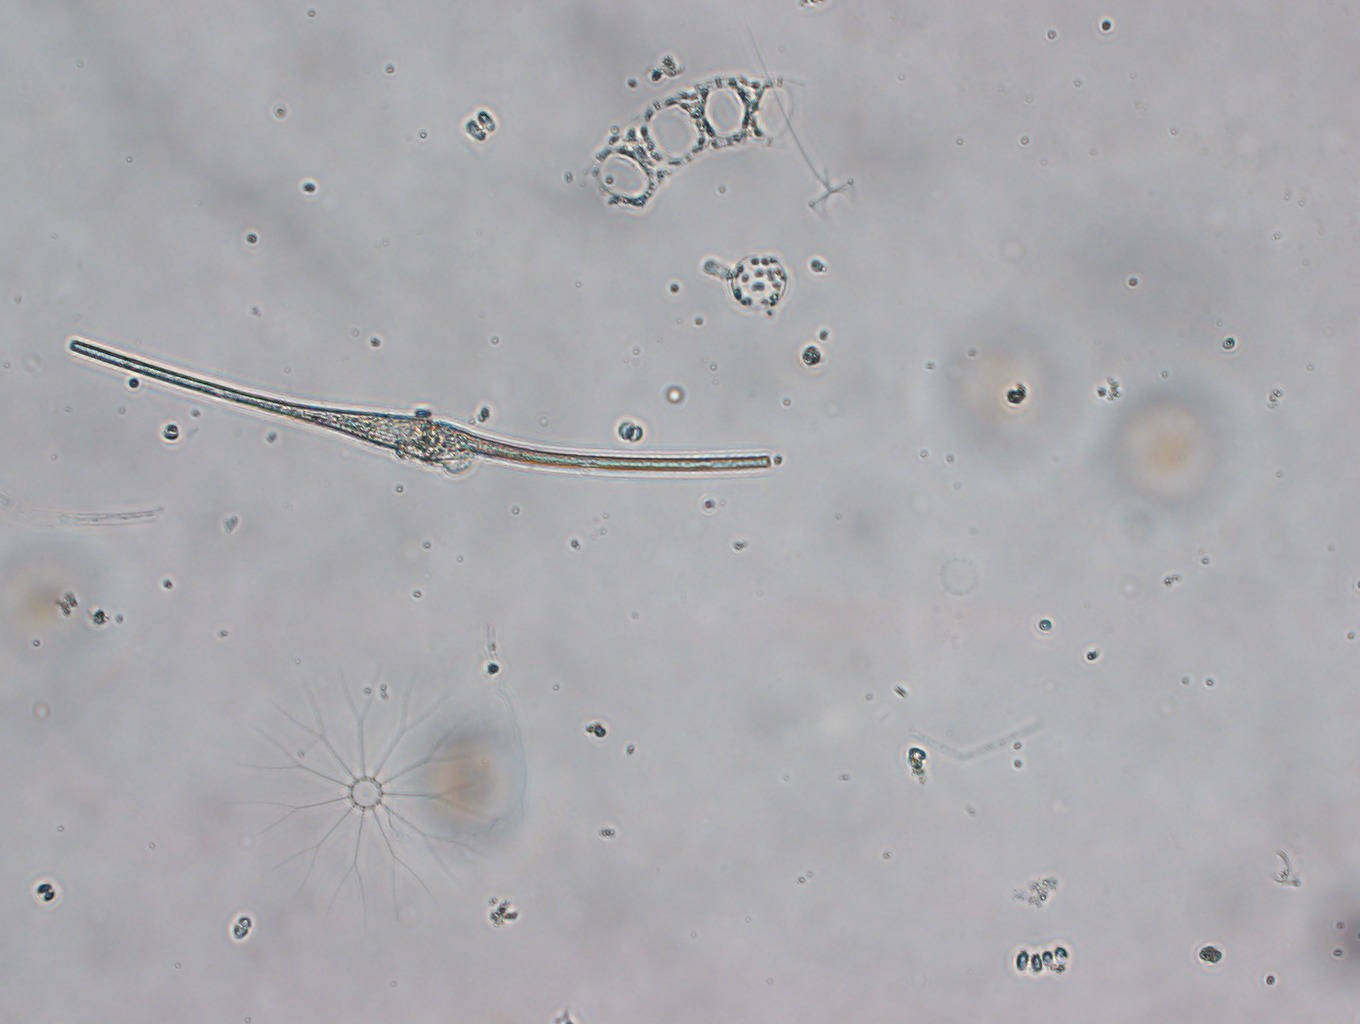bacteriastrum: (249, 662, 489, 918)
ceratium fusus: (67, 335, 774, 475)
eucampia: (586, 76, 810, 208)
